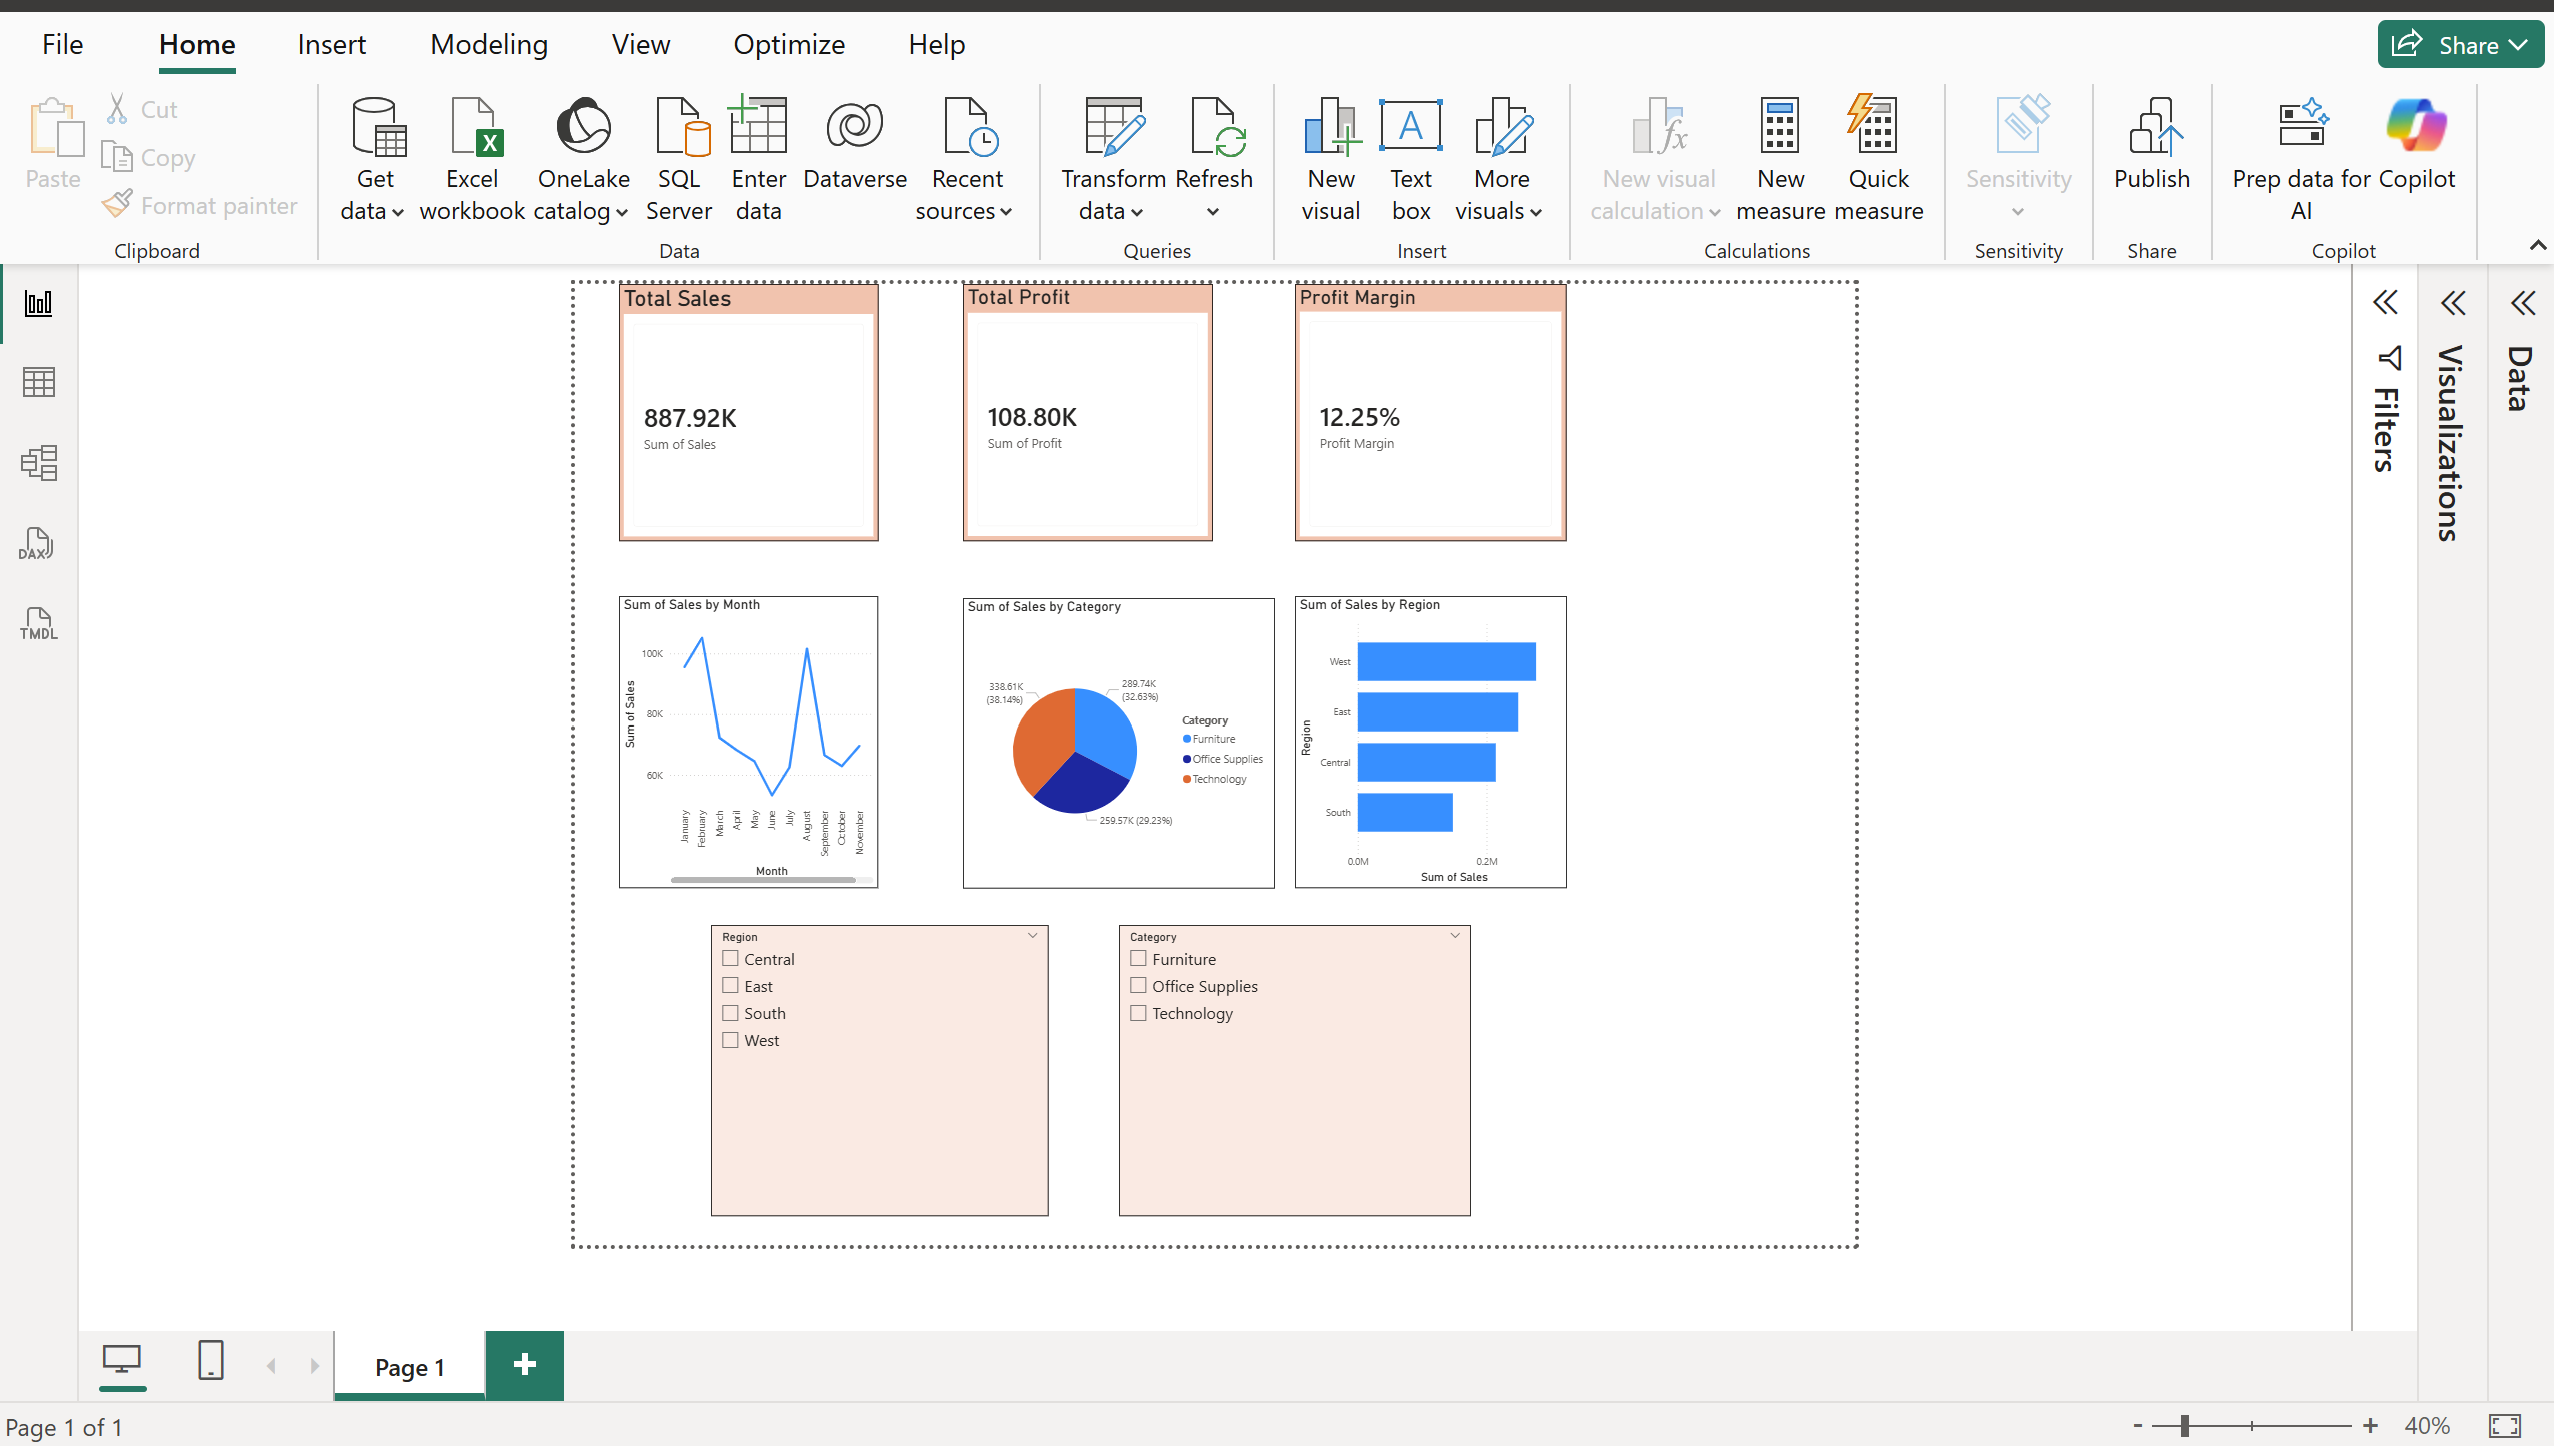

Layout of this report page (visuals, bound fields, positions):
{"tool":"powerbi","page":{"name":"Page 1","canvas":[1600,1200],"ordinal":0},"visuals":[{"type":"cardVisual","title":"Total Sales","fields":{"Data":["Sum(Sample - Superstore.Sales)"]},"box":[56.1,0,324.5,321.5],"z":0},{"type":"cardVisual","title":"Total Profit","fields":{"Data":["Sum(Sample - Superstore.Profit)"]},"box":[483.8,0,312.4,321.5],"z":1000},{"type":"pieChart","fields":{"Y":["Sum(Sample - Superstore.Sales)"],"Series":["Sample - Superstore.Category"]},"box":[484,392,390,362],"z":2000},{"type":"slicer","fields":{"Values":["Sample - Superstore.Region"]},"box":[170,800,422,364],"z":3000},{"type":"slicer","fields":{"Values":["Sample - Superstore.Category"]},"box":[680,800,440,364],"z":4000},{"type":"cardVisual","title":"Profit Margin","fields":{"Data":["Sample - Superstore.Profit Margin"]},"box":[899.3,0,339.7,321.5],"z":5000},{"type":"barChart","fields":{"Category":["Sample - Superstore.Region"],"Y":["Sum(Sample - Superstore.Sales)"]},"box":[900,390,340,364],"z":6000},{"type":"lineChart","fields":{"Category":["Sample - Superstore.Order_Date.Variation.Date Hierarchy.Month"],"Y":["Sum(Sample - Superstore.Sales)"]},"box":[56,390,324,364],"z":6001}]}

Visuals, with their boxes on the page's 1600x1200 design canvas (x1, y1, x2, y2). These are canvas units, not pixel positions in the 2554x1446 screenshot, which may show the page scaled, cropped or inside an application window:
"Total Sales" cardVisual: [left=56, top=0, right=381, bottom=322]
"Total Profit" cardVisual: [left=484, top=0, right=796, bottom=322]
pieChart - Sum(Sample - Superstore.Sales) x Sample - Superstore.Category: [left=484, top=392, right=874, bottom=754]
slicer - Sample - Superstore.Region: [left=170, top=800, right=592, bottom=1164]
slicer - Sample - Superstore.Category: [left=680, top=800, right=1120, bottom=1164]
"Profit Margin" cardVisual: [left=899, top=0, right=1239, bottom=322]
barChart - Sample - Superstore.Region x Sum(Sample - Superstore.Sales): [left=900, top=390, right=1240, bottom=754]
lineChart - Sample - Superstore.Order_Date.Variation.Date Hierarchy.Month x Sum(Sample - Superstore.Sales): [left=56, top=390, right=380, bottom=754]
